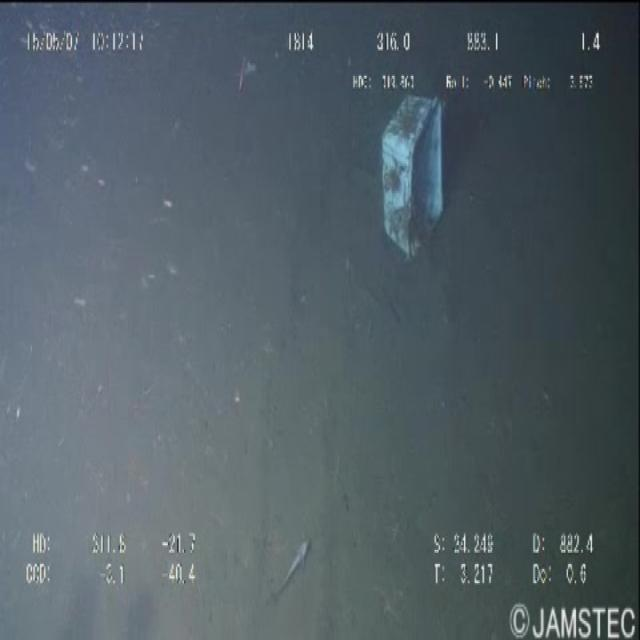Cutlery: (372, 97, 454, 270)
Natual-Debris: (266, 530, 329, 602)
